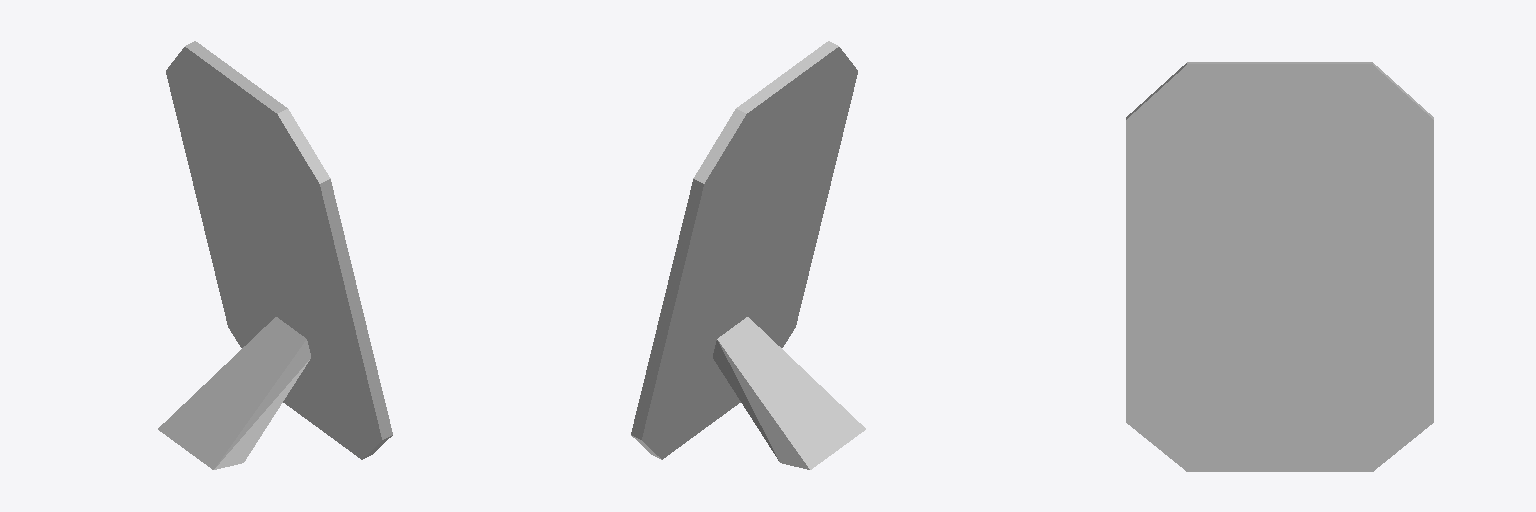
Rendered from mirror.obj.
3 renders of one model, left to right at view 1: azimuth 30°, elevation 25°; view 2: azimuth 150°, elevation 25°; view 3: azimuth 270°, elevation 25°, orthographic.
Parts seen in each view (by area): view 1: Cube; view 2: Cube; view 3: Cube.
Boxes of the visible parts, box(x1,y1,x2,y2) form: Cube: box(158, 41, 392, 469); Cube: box(631, 41, 865, 469); Cube: box(1126, 62, 1433, 471).
Size of the model in its own units: 1.06 by 2.64 by 2.